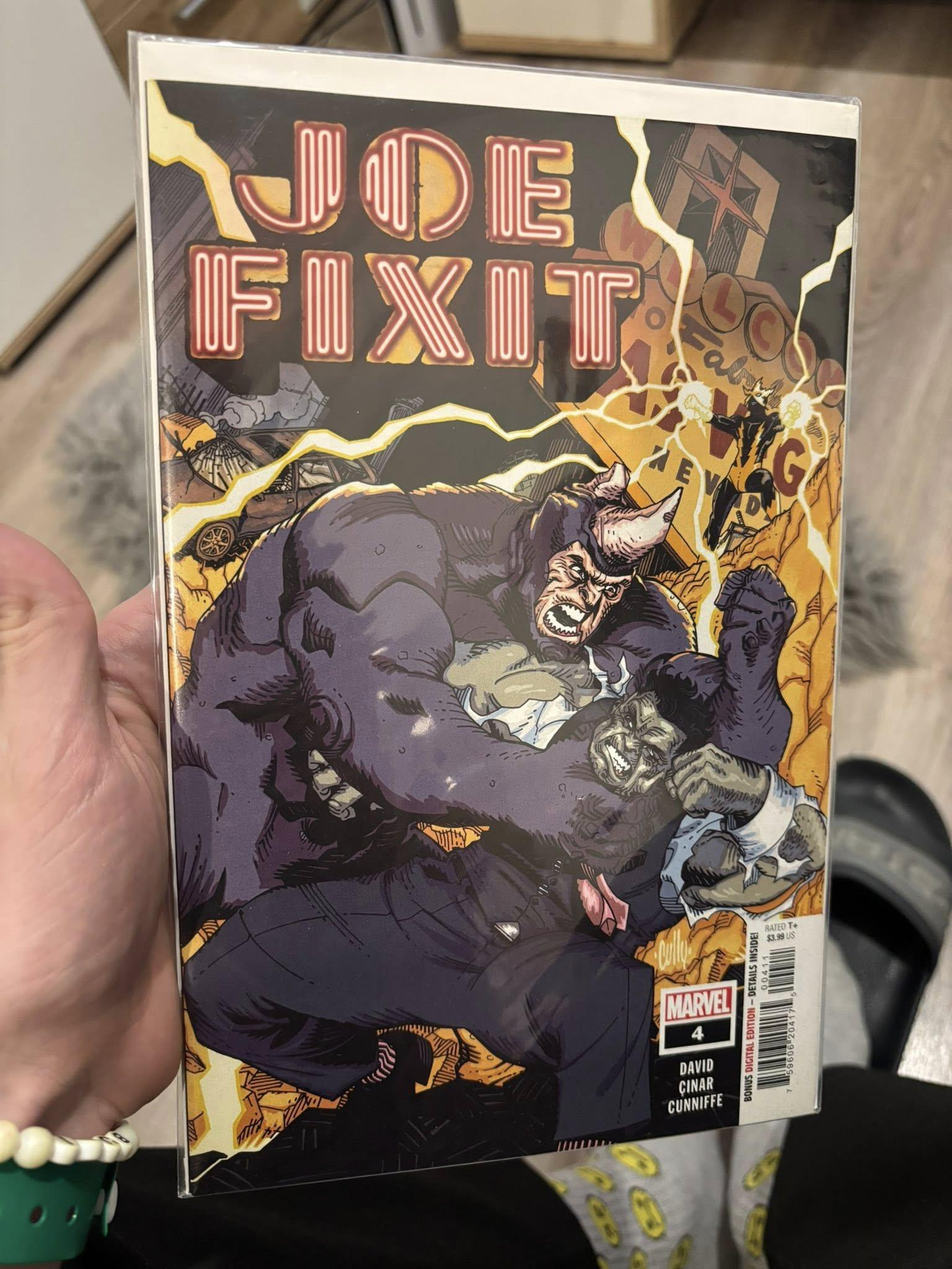comic: (132, 9, 900, 1193)
